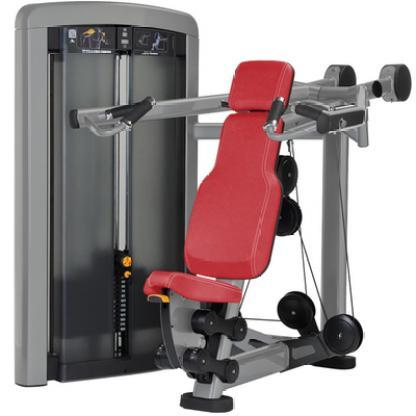shoulder press machine: (7, 0, 416, 416)
